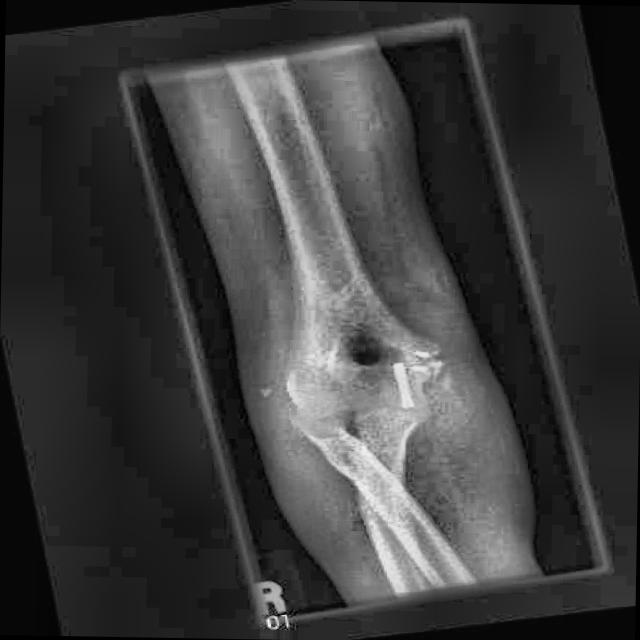elbow positive: (398, 337, 459, 395)
